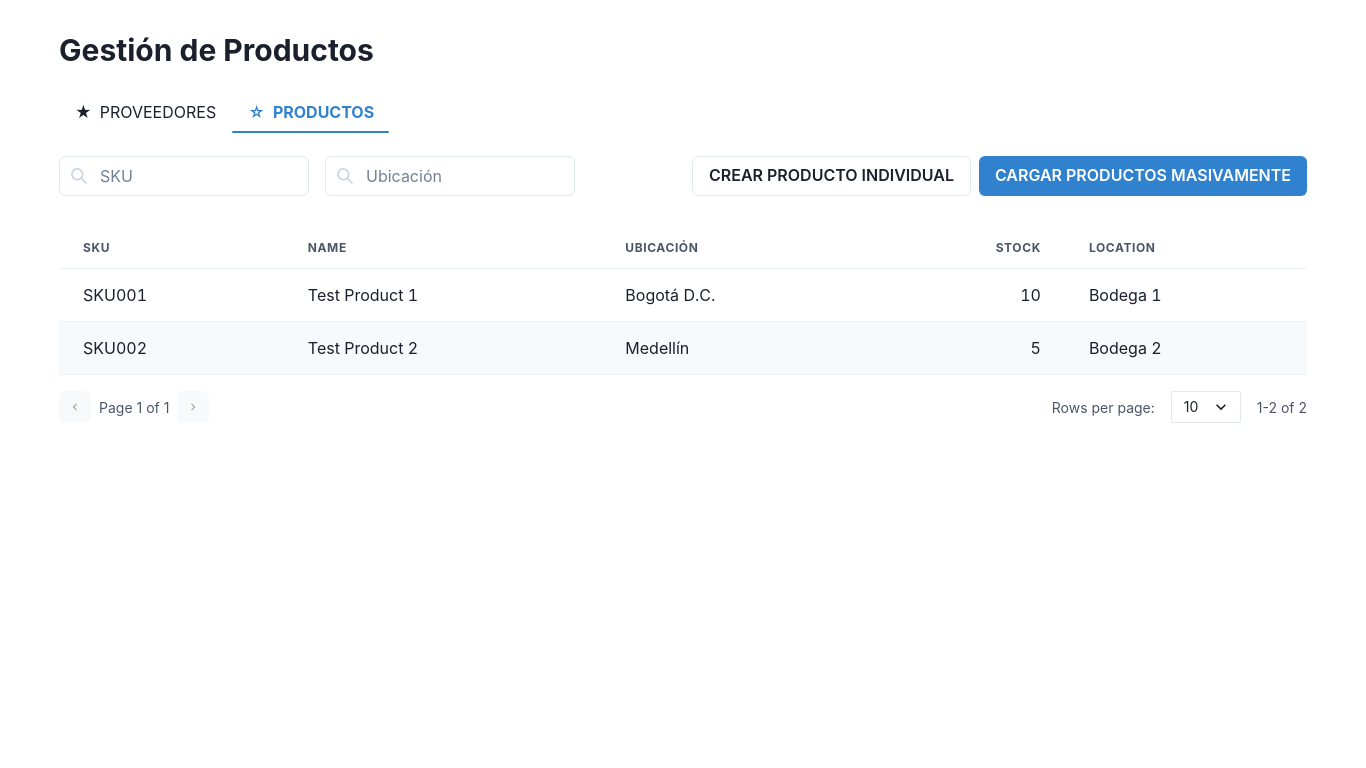
Test case: Products Component › creates new product via individual modal and closes
Expected: the text "SKU001" is shown, [59,268,284,322]
// Open individual product creation modal
Click the button "CREAR PRODUCTO INDIVIDUAL".
click(831, 176)  # box [692,156,971,196]
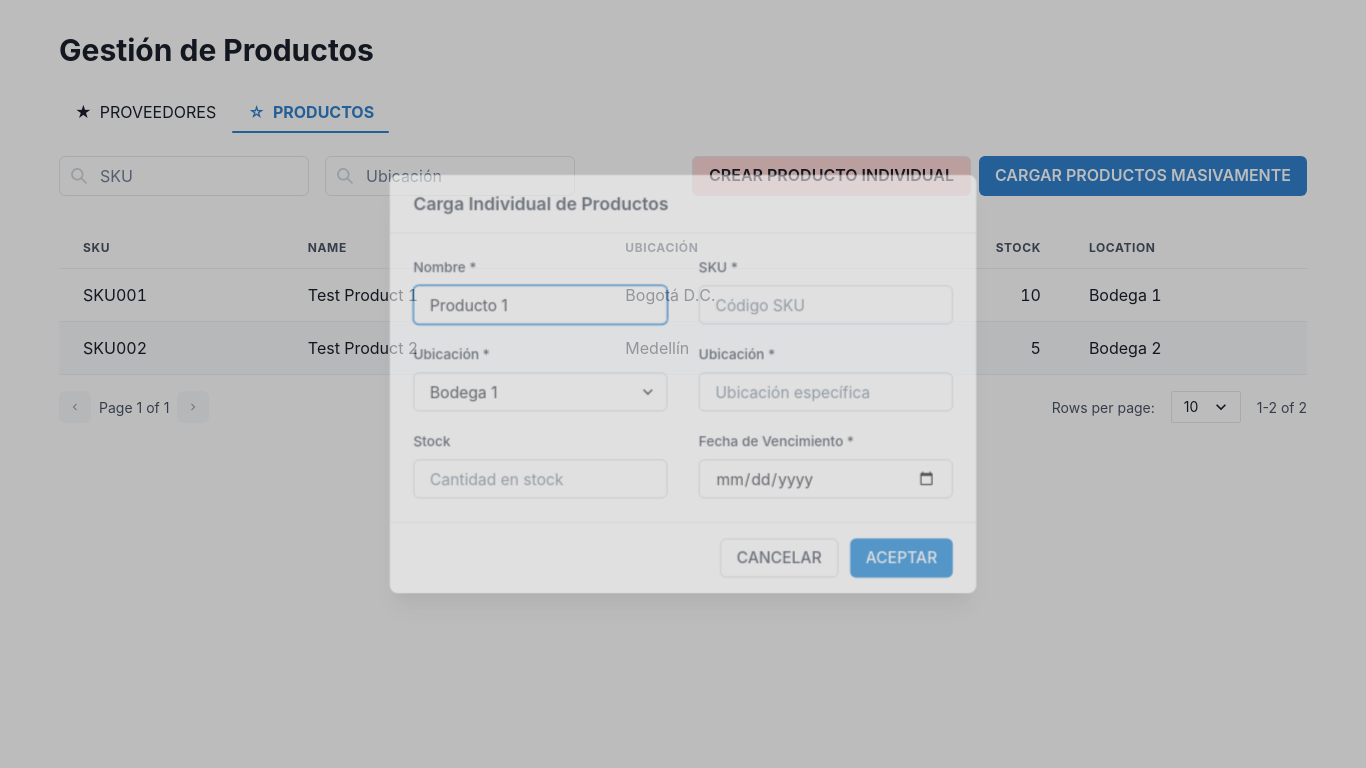
Expected: the text "Carga Individual de Productos" is shown, [390,175,976,233]
// Close the modal
Click the button "CANCELAR".
click(779, 558)  # box [720,538,838,578]
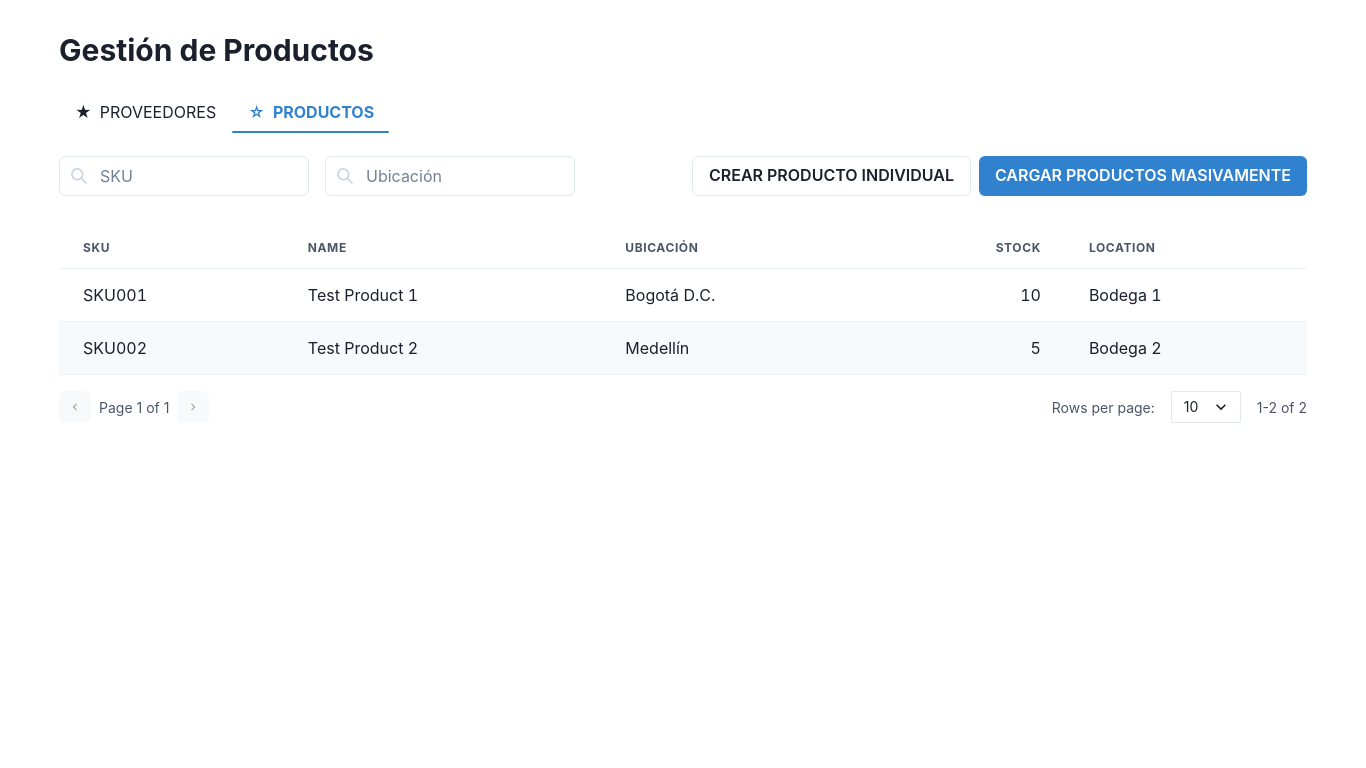
Expected: the text "Carga Individual de Productos" is gone
